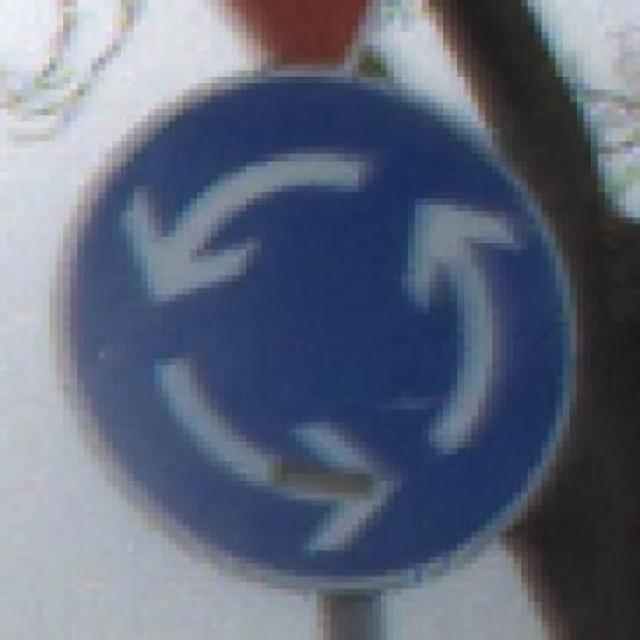Round-About: (34, 57, 606, 601)
